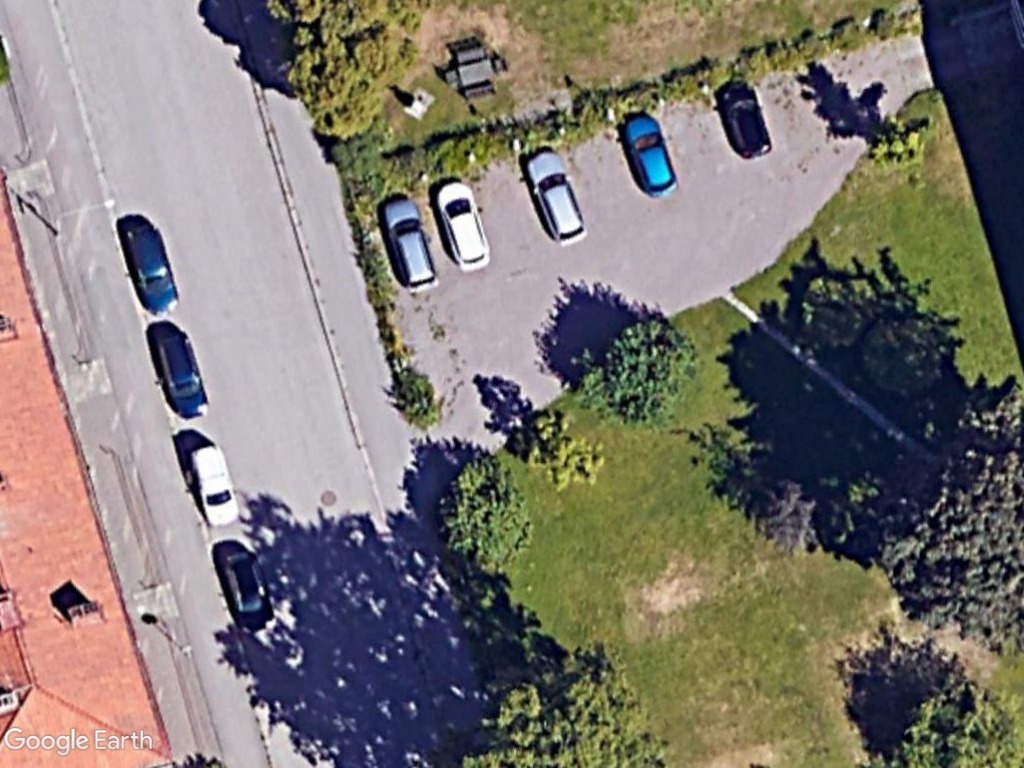car: (516, 141, 589, 249), (378, 187, 443, 298), (120, 216, 185, 319), (430, 177, 494, 275), (616, 108, 681, 202), (180, 437, 245, 531), (152, 323, 213, 421), (215, 543, 276, 636), (718, 78, 775, 166)
